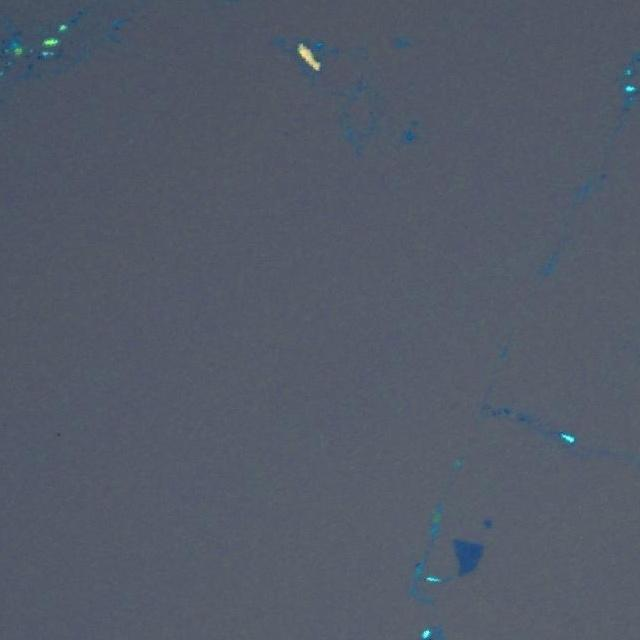monolayer-eWW4: (452, 533, 486, 577), (481, 517, 492, 528)
